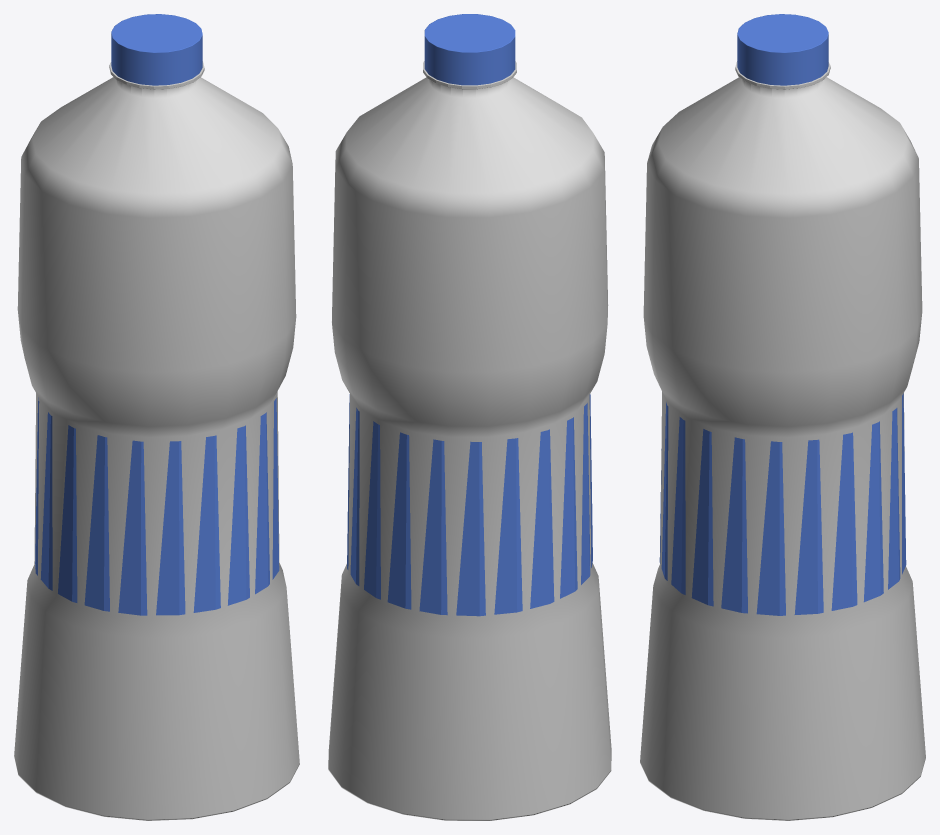
The model's file is Bottle_7.fbx.
3 renders of one model, left to right at view 1: azimuth 30°, elevation 25°; view 2: azimuth 150°, elevation 25°; view 3: azimuth 270°, elevation 25°, orthographic.
Parts seen in each view (by area): view 1: polySurface3, bottle_name, cap; view 2: polySurface3, bottle_name, cap; view 3: polySurface3, bottle_name, cap.
Boxes of the visible parts, <box> form: polySurface3: <box>14,61,299,820</box>; bottle_name: <box>35,397,279,615</box>; cap: <box>111,14,202,85</box>; polySurface3: <box>328,61,611,820</box>; bottle_name: <box>347,394,592,616</box>; cap: <box>424,14,515,85</box>; polySurface3: <box>640,61,925,820</box>; bottle_name: <box>659,393,906,615</box>; cap: <box>737,14,828,85</box>.
Bounding box in the file's own units: 0.3535 × 0.9918 × 0.3535.
